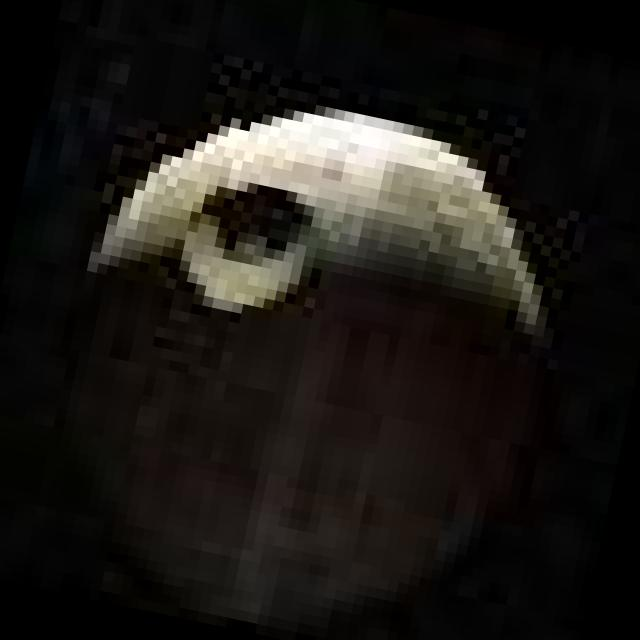Death Star: (11, 43, 622, 640)
